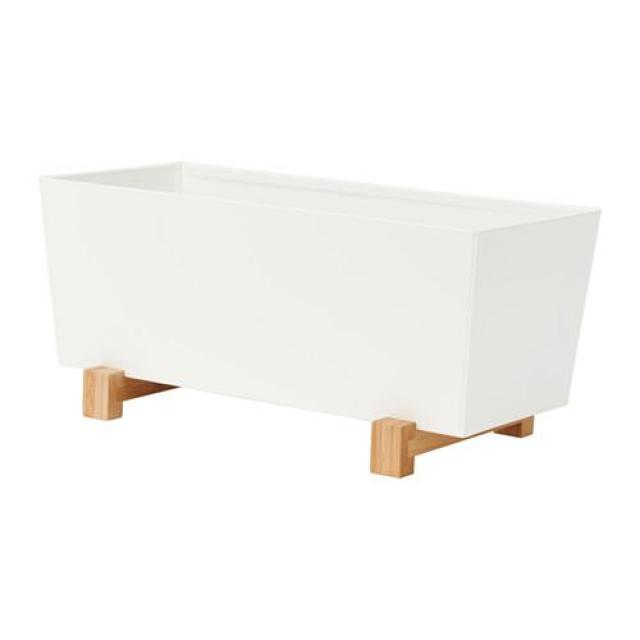plant pot: (37, 156, 604, 444)
